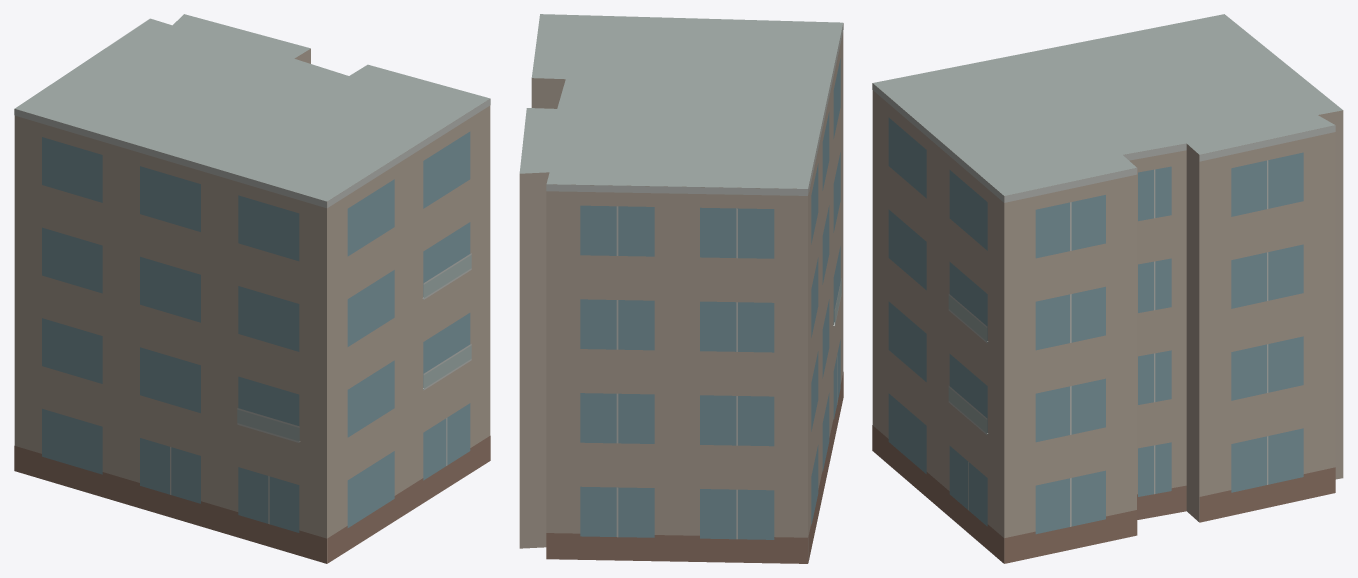
File: survey-upis-32942235.glb
3 views of the same model, side by side, from view 1: azimuth 30°, elevation 25°; view 2: azimuth 150°, elevation 25°; view 3: azimuth 270°, elevation 25° (orthographic). The views are drawn at different scales.
Visible parts, largest first — view 1: survey-upis-32942235.tmp; view 2: survey-upis-32942235.tmp; view 3: survey-upis-32942235.tmp.
Part boxes in pixels (x1=…): survey-upis-32942235.tmp: x1=14, y1=14, x2=490, y2=563; survey-upis-32942235.tmp: x1=519, y1=14, x2=843, y2=563; survey-upis-32942235.tmp: x1=872, y1=14, x2=1343, y2=563.
Size of the model in its own units: 13.86 by 13.05 by 15.15.
